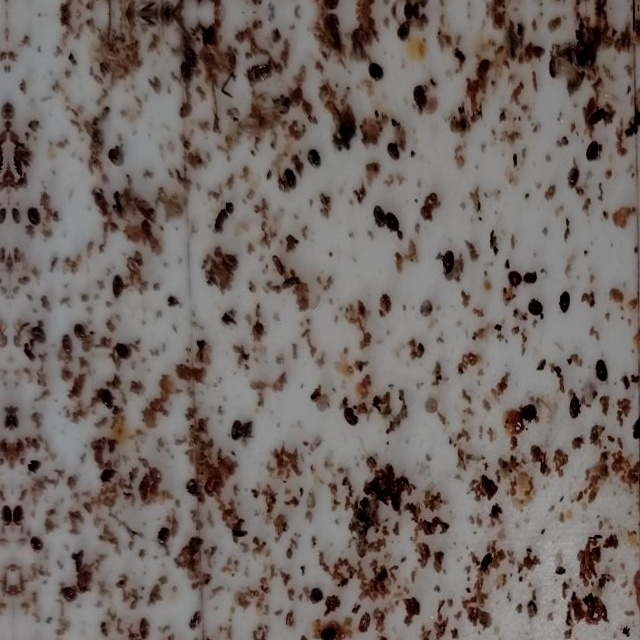varroa: (371, 200, 387, 232), (105, 143, 124, 169), (278, 166, 297, 191), (152, 525, 172, 548), (96, 387, 115, 411), (410, 84, 425, 113), (592, 357, 608, 384), (583, 140, 600, 165), (110, 272, 124, 302), (182, 44, 198, 70), (440, 248, 454, 277), (176, 63, 191, 90), (517, 405, 538, 424), (112, 340, 130, 362), (556, 290, 570, 318), (58, 586, 78, 605), (340, 407, 358, 428), (95, 468, 116, 486), (384, 211, 399, 236), (305, 149, 321, 172), (564, 165, 578, 191), (73, 319, 88, 342), (29, 323, 46, 343), (25, 207, 41, 228), (567, 394, 579, 421), (365, 63, 382, 82), (385, 141, 399, 164), (227, 419, 241, 442), (306, 585, 320, 607), (58, 334, 71, 357), (394, 20, 408, 41), (356, 612, 369, 634), (506, 268, 520, 288), (526, 299, 542, 316), (9, 207, 22, 227), (12, 503, 23, 526), (28, 537, 42, 554), (183, 479, 196, 496), (11, 409, 19, 432)
